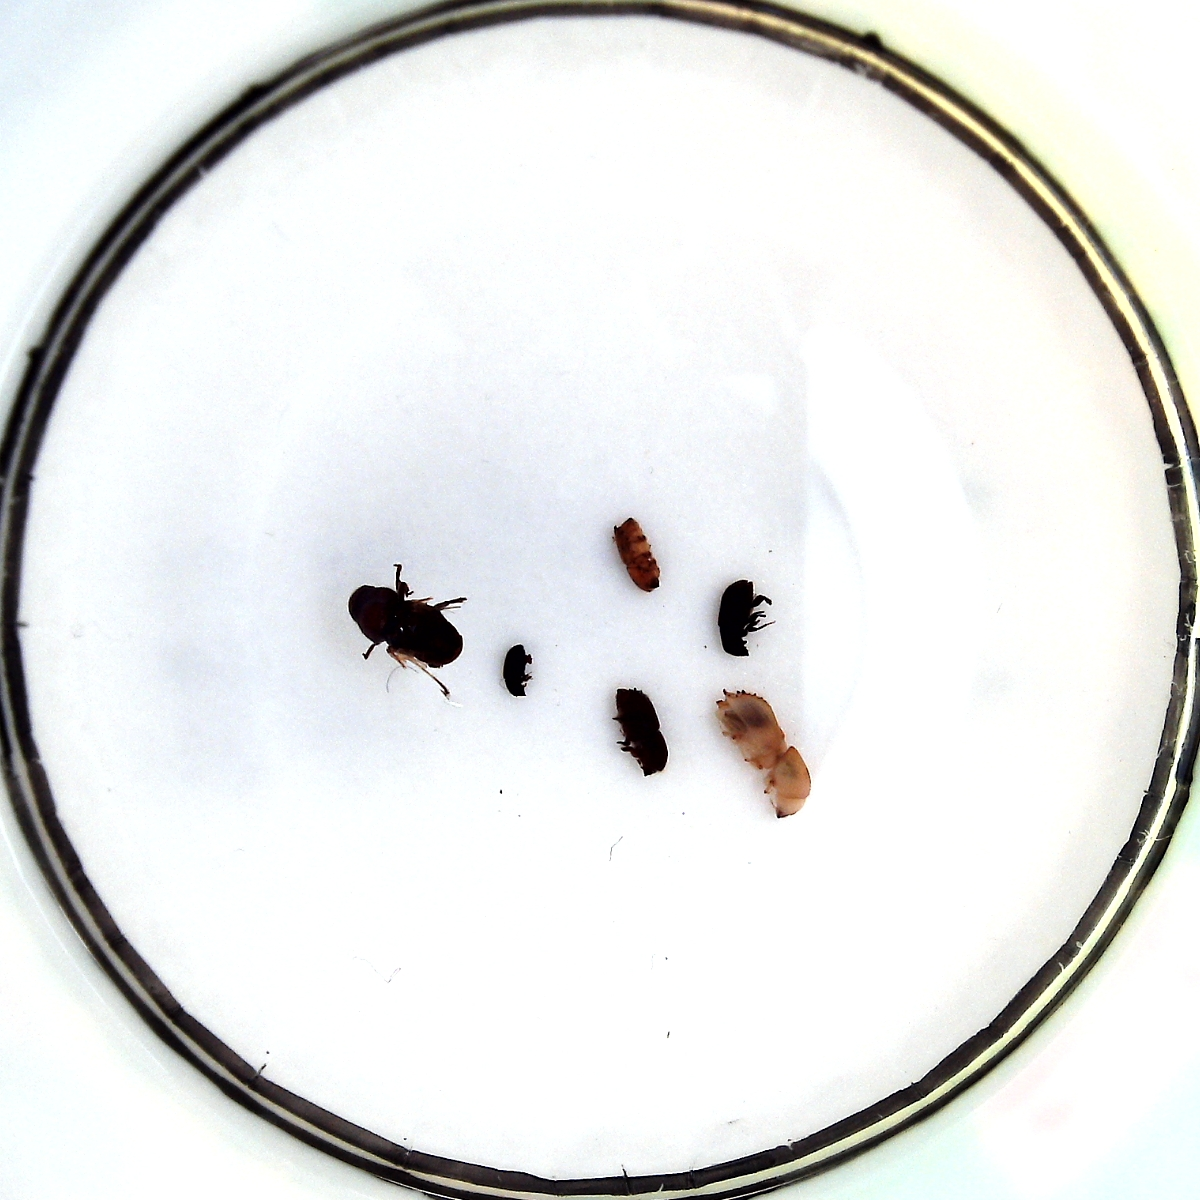Boerner: (715, 689, 811, 816)
Leconte: (348, 584, 464, 669)
acuminatus: (503, 644, 529, 697)
armandi: (718, 579, 753, 658)
linnaeus: (616, 688, 669, 777), (614, 516, 660, 592)
